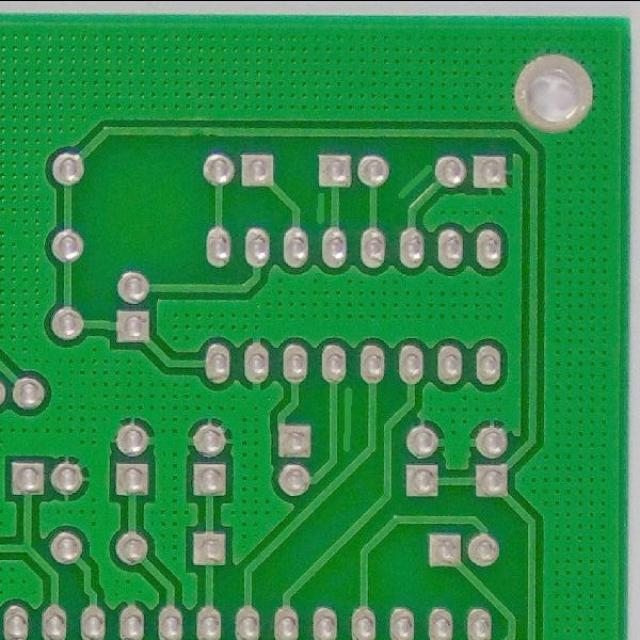spurious_copper: (328, 381, 367, 464), (389, 148, 447, 203), (304, 182, 345, 230)
